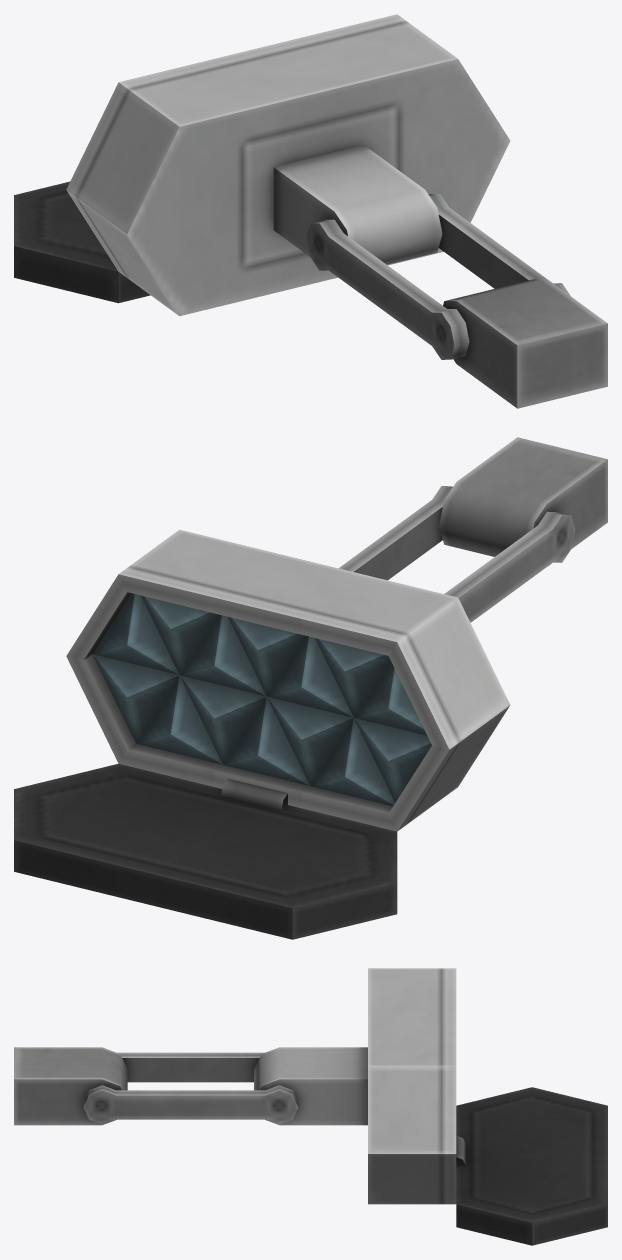
The model's file is ye8_reflector.obj.
3 views of the same model, one above another, from view 1: azimuth 30°, elevation 25°; view 2: azimuth 150°, elevation 25°; view 3: azimuth 270°, elevation 25° (orthographic). The views are drawn at different scales.
Visible parts, largest first — view 1: 1; view 2: 1; view 3: 1.
Boxes of the visible parts, x1,y1,x2,y2 form: 1: (14,14,607,408); 1: (14,437,607,939); 1: (14,968,607,1245).
Size of the model in its own units: 0.3175 by 0.175 by 0.5875.
Materials: 1 (1 with a texture image).
